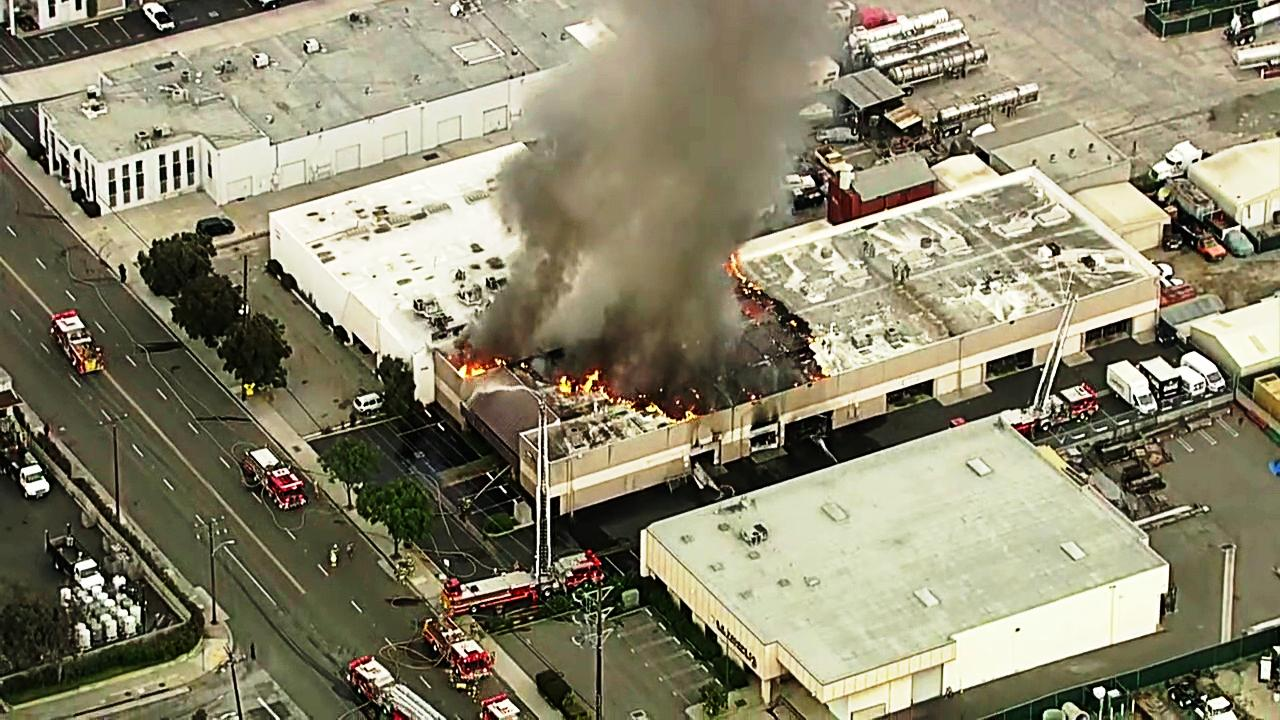smoke: (559, 13, 749, 314)
